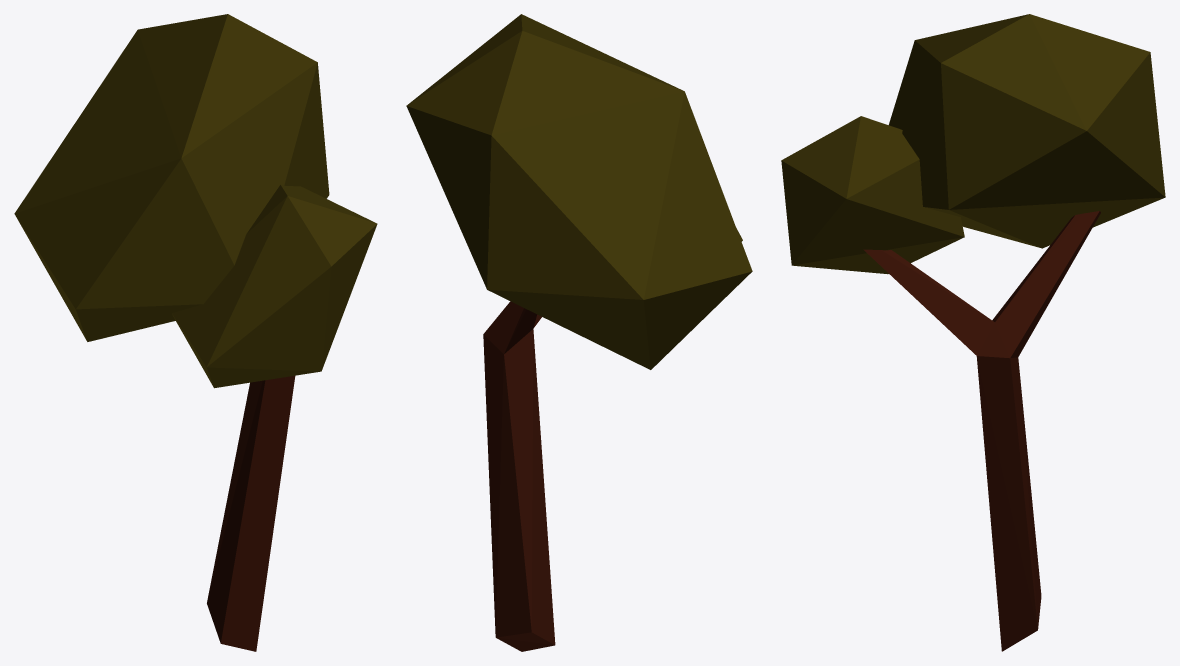
File: BlobTree1.fbx.glb
3 views of the same model, side by side, from view 1: azimuth 30°, elevation 25°; view 2: azimuth 150°, elevation 25°; view 3: azimuth 270°, elevation 25° (orthographic).
Parts seen in each view (by area): view 1: BlobTree1; view 2: BlobTree1; view 3: BlobTree1.
Boxes of the visible parts, left/top/right/bottom form: BlobTree1: left=14, top=14, right=377, bottom=651; BlobTree1: left=406, top=14, right=752, bottom=651; BlobTree1: left=781, top=14, right=1165, bottom=651.
Size of the model in its own units: 84.77 by 184 by 102.
